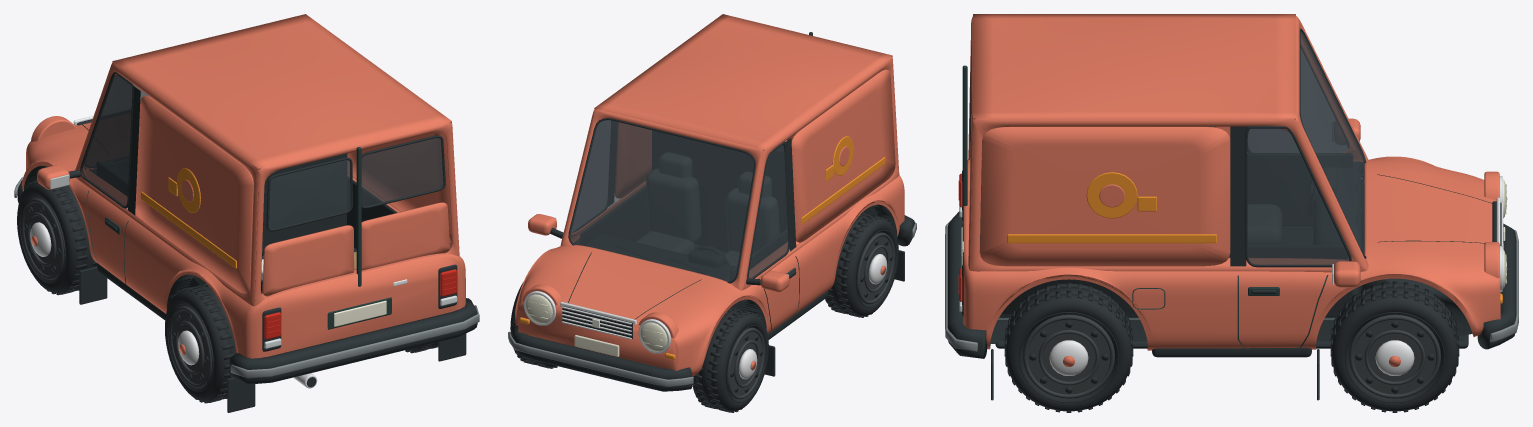
The model's file is postvan.fbx.
3 renders of one model, left to right at view 1: azimuth 30°, elevation 25°; view 2: azimuth 150°, elevation 25°; view 3: azimuth 270°, elevation 25°, orthographic. The views are drawn at different scales.
Parts seen in each view (by area): view 1: Body, Wheel_FL_Mesh, Wheel_RL_Mesh; view 2: Body, Wheel_FL_Mesh, Wheel_RL_Mesh, Wheel_FR_Mesh; view 3: Body, Wheel_FR_Mesh, Wheel_RR_Mesh.
Part boxes in pixels (x1,y1,x2,y2): Body: [14, 14, 479, 412]; Wheel_FL_Mesh: [17, 180, 97, 295]; Wheel_RL_Mesh: [165, 283, 236, 403]; Body: [508, 14, 916, 391]; Wheel_FL_Mesh: [692, 307, 768, 412]; Wheel_RL_Mesh: [825, 212, 898, 317]; Wheel_FR_Mesh: [510, 283, 557, 368]; Body: [945, 14, 1518, 400]; Wheel_FR_Mesh: [1330, 281, 1459, 412]; Wheel_RR_Mesh: [1004, 283, 1133, 412].
Bounding box in the file's own units: 231 × 200 × 359.
